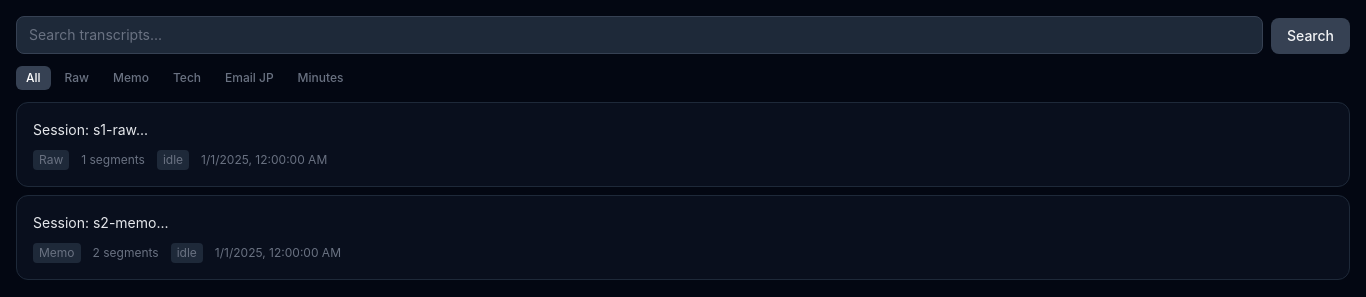
Test: HistoryPage › filters by mode
Check: the text "Session: s1-raw..." is shown, box [33,121,148,138]
# Click the filter button (first "Memo"), not the item badge
Step 1. Click the button "Memo" → (131,78), box [103,66,159,90]
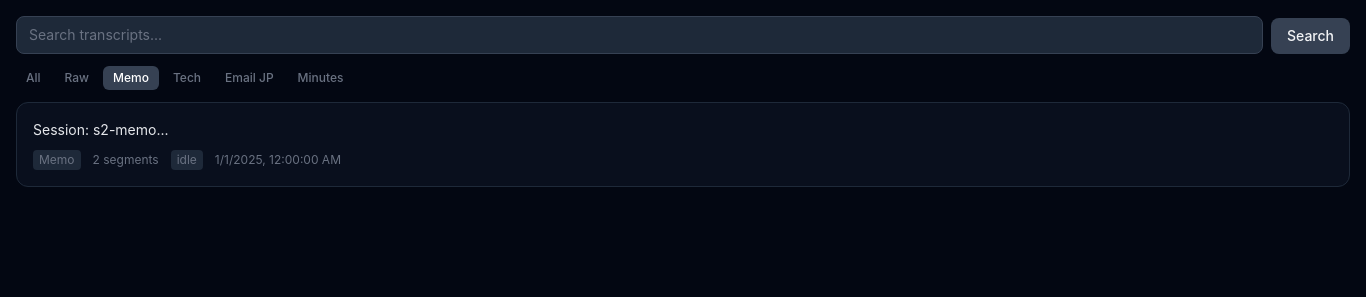
Check: the text "Session: s2-memo..." is shown, box [33,121,168,138]
Check: the text "s1-raw" is gone
